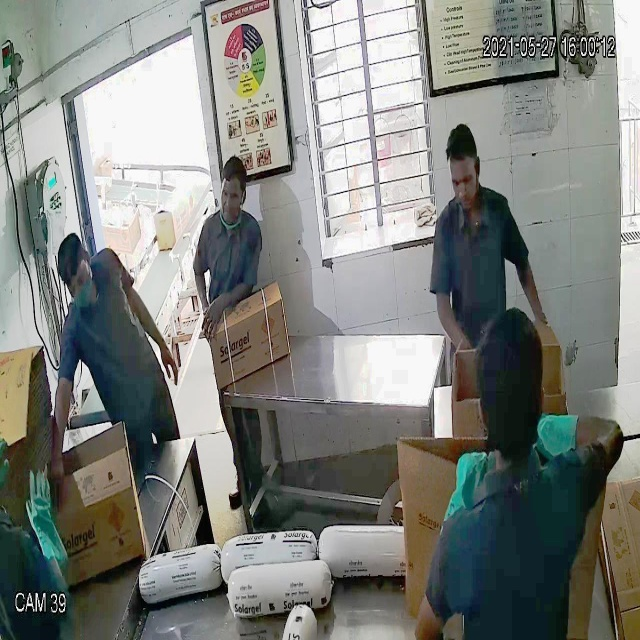Sin_gafas: (444, 162, 483, 195)
